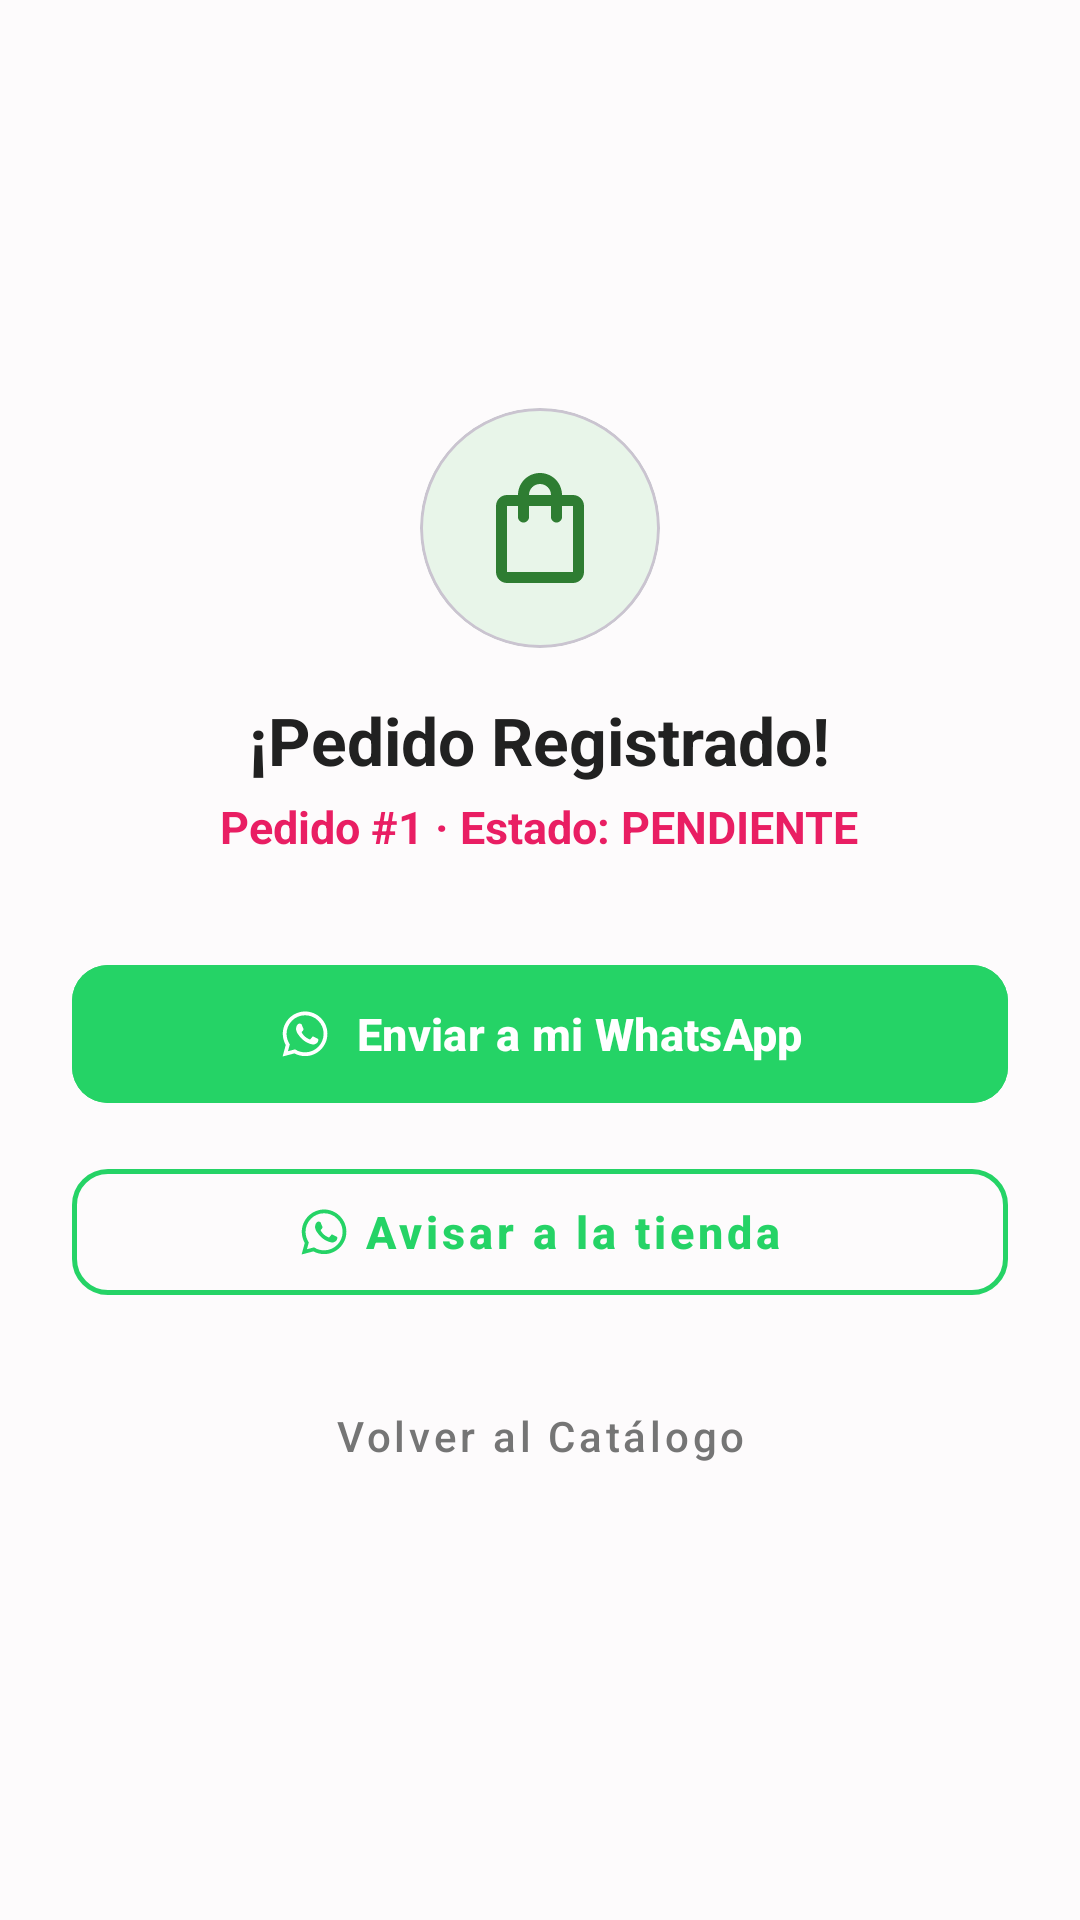

Screen size 1080*1920. Icon name, then its center in pixels as [x,y]:
pedidos: [540,528]
